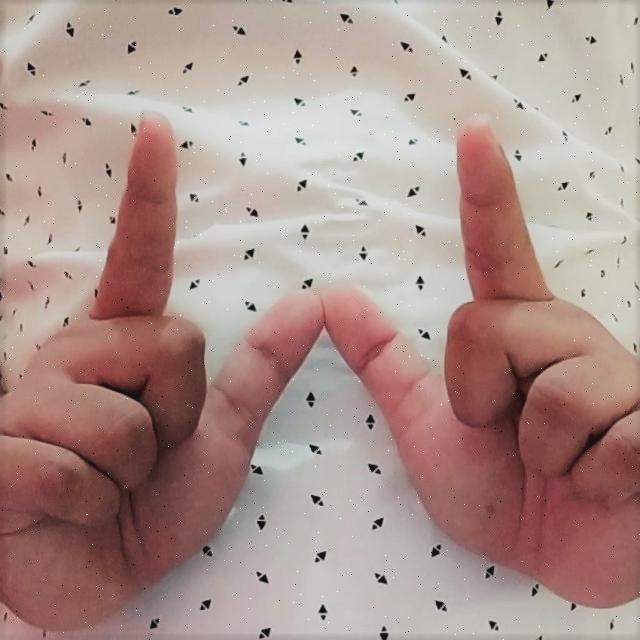W: (14, 78, 632, 639)
